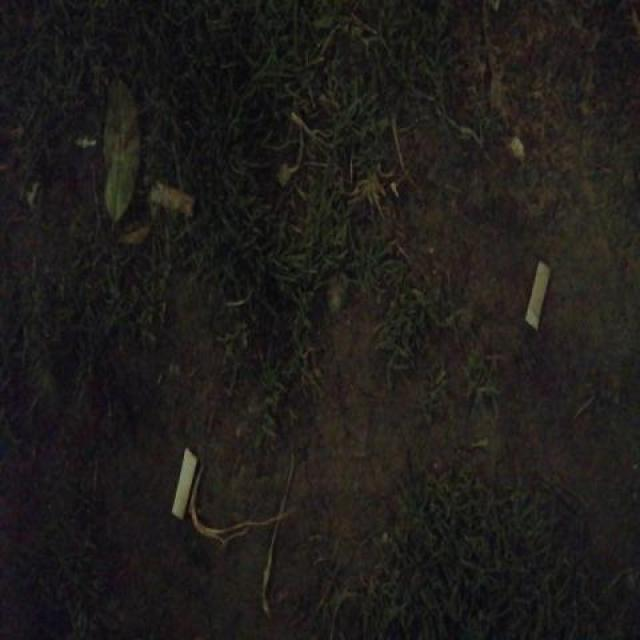non-organic waste: (520, 254, 556, 333), (144, 175, 203, 220), (169, 440, 200, 525)
